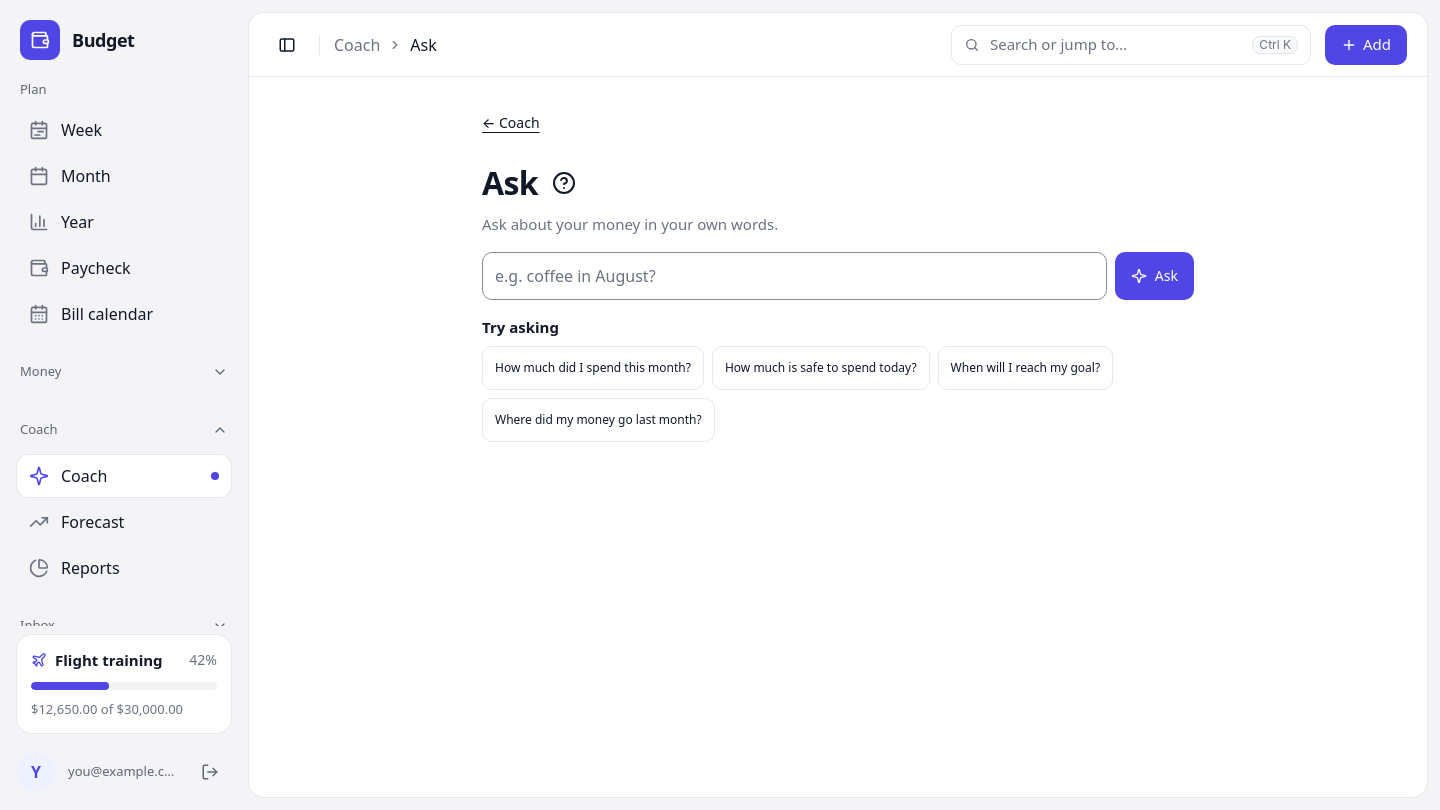
Ask about this › offers no Ask about this on Ask’s own help
The width and height of the screenshot is (1440, 810).
Click the button named "Help with this screen" at x=564, y=183, box left=542, top=161, right=586, bottom=205
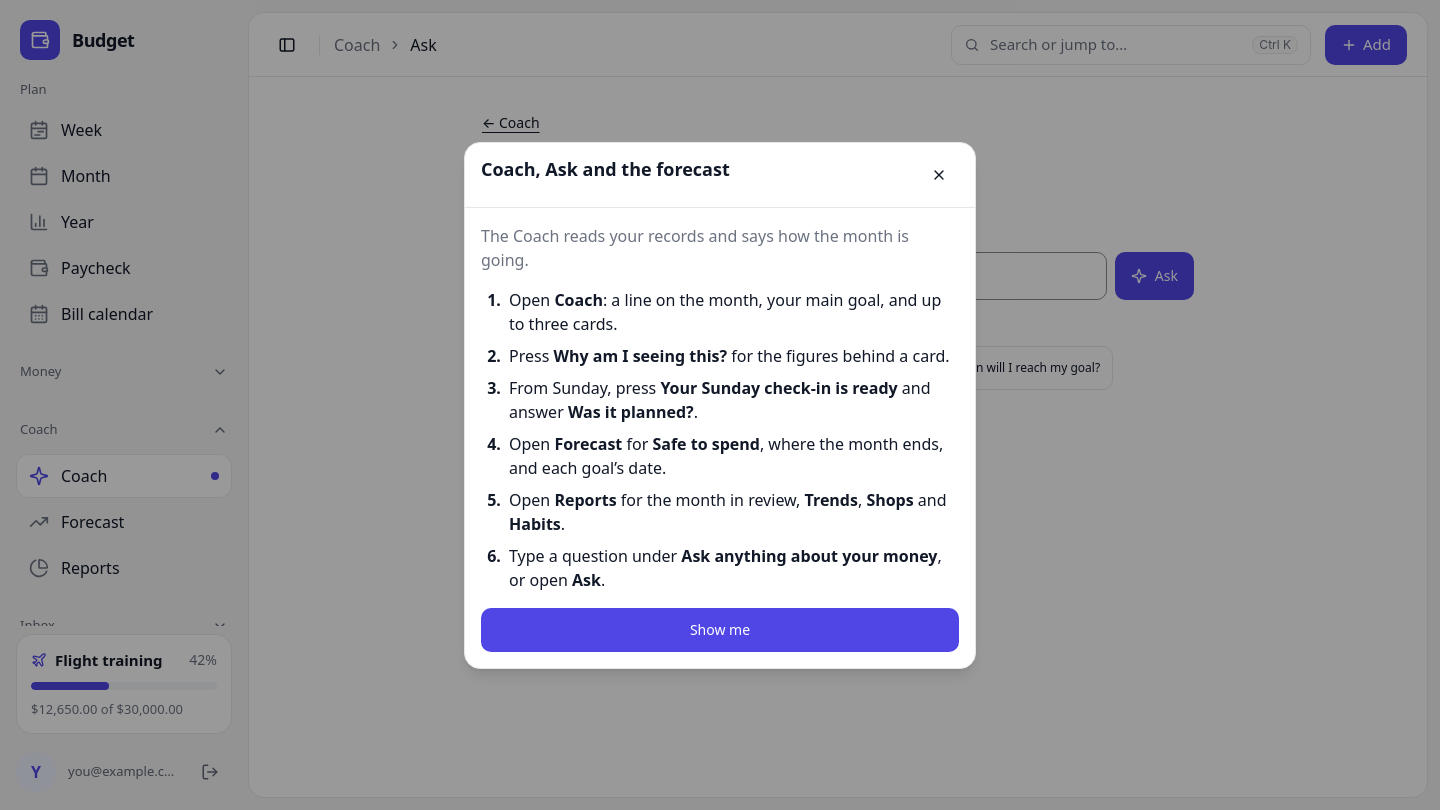
Check: the link "Show me" is shown, box left=481, top=608, right=959, bottom=652
